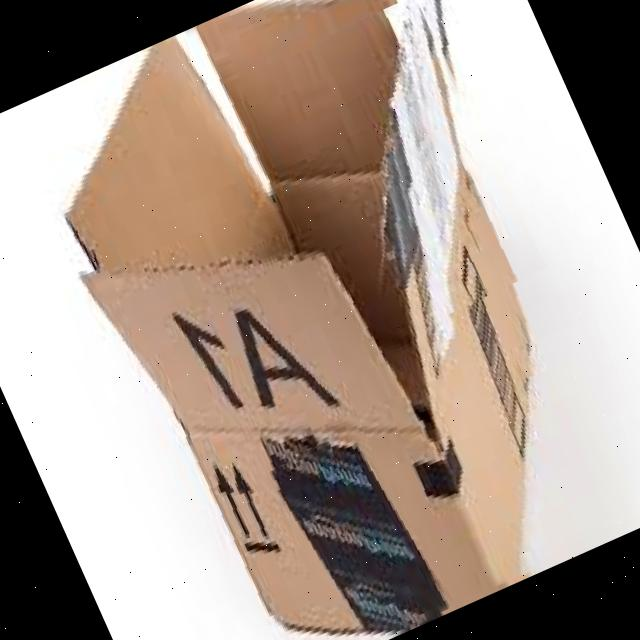box: (65, 1, 539, 639)
opened: (65, 3, 466, 432)
